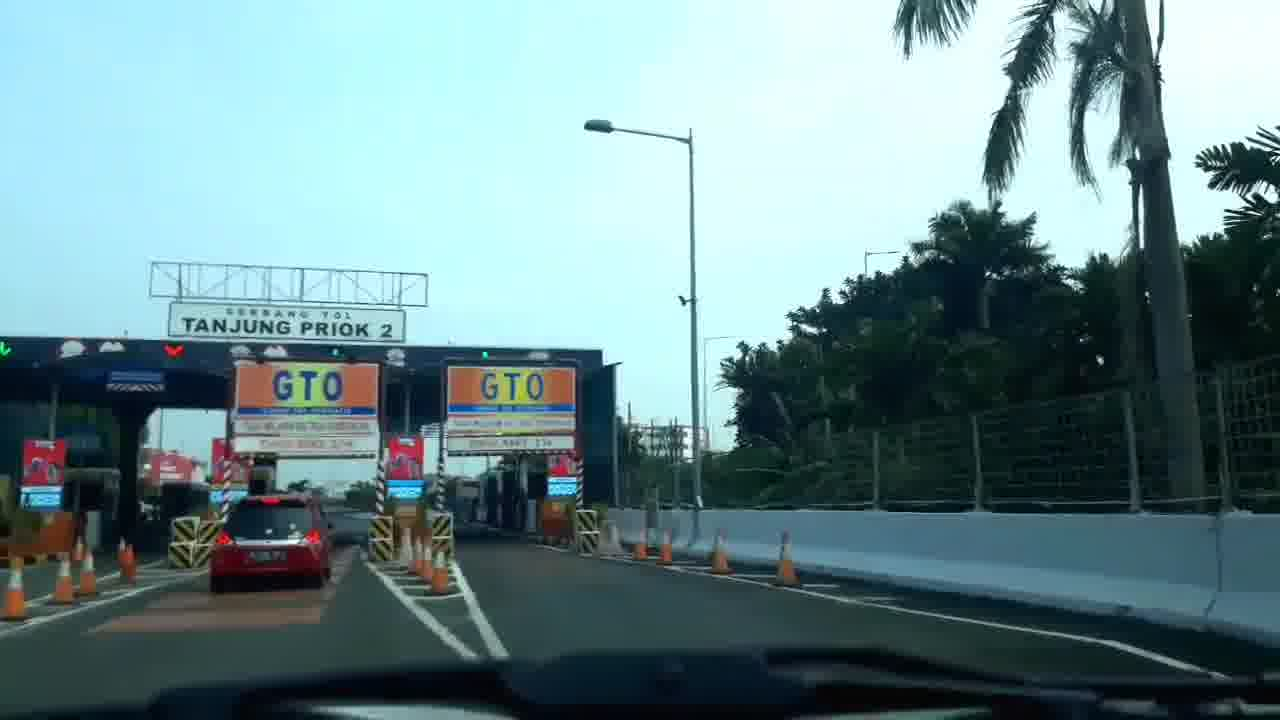plate_positive: (249, 550, 288, 563)
